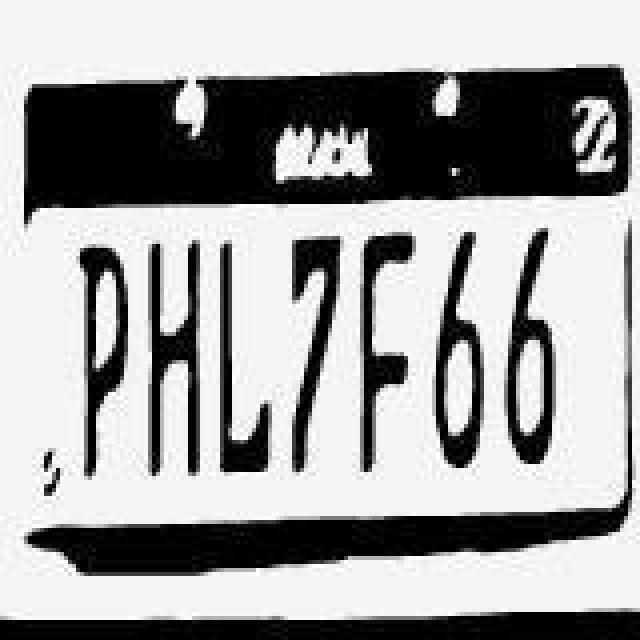6: (430, 232, 490, 472), (504, 222, 560, 466)
7: (282, 232, 342, 472)
F: (356, 230, 420, 474)
H: (142, 240, 210, 480)
L: (218, 238, 278, 474)
P: (74, 240, 134, 480)
